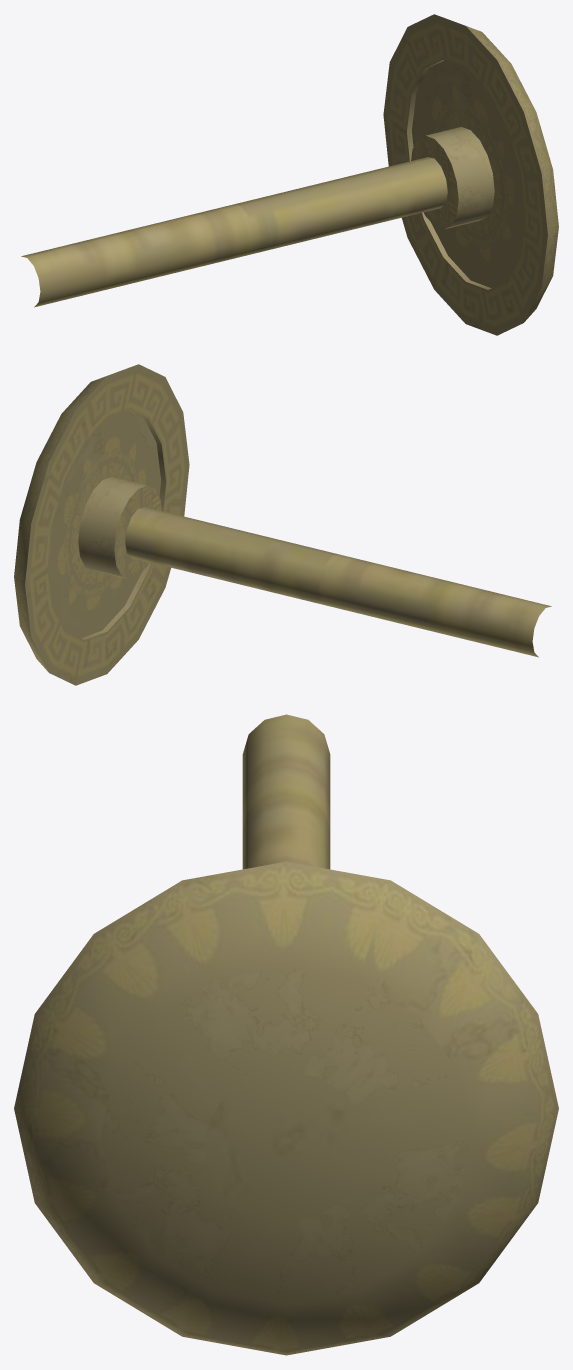
The model's file is SM_tent_holder.glb.
3 renders of one model, top to bottom at view 1: azimuth 30°, elevation 25°; view 2: azimuth 150°, elevation 25°; view 3: azimuth 270°, elevation 25°, orthographic. The views are drawn at different scales.
Parts seen in each view (by area): view 1: SM_tent_holder; view 2: SM_tent_holder; view 3: SM_tent_holder.
Boxes of the visible parts, x1,y1,x2,y2 form: SM_tent_holder: (21,14,558,335); SM_tent_holder: (14,364,551,685); SM_tent_holder: (14,714,558,1355).
Bounding box in the file's own units: 3.41 × 2 × 2.
Materials: 1 (1 with a texture image).
